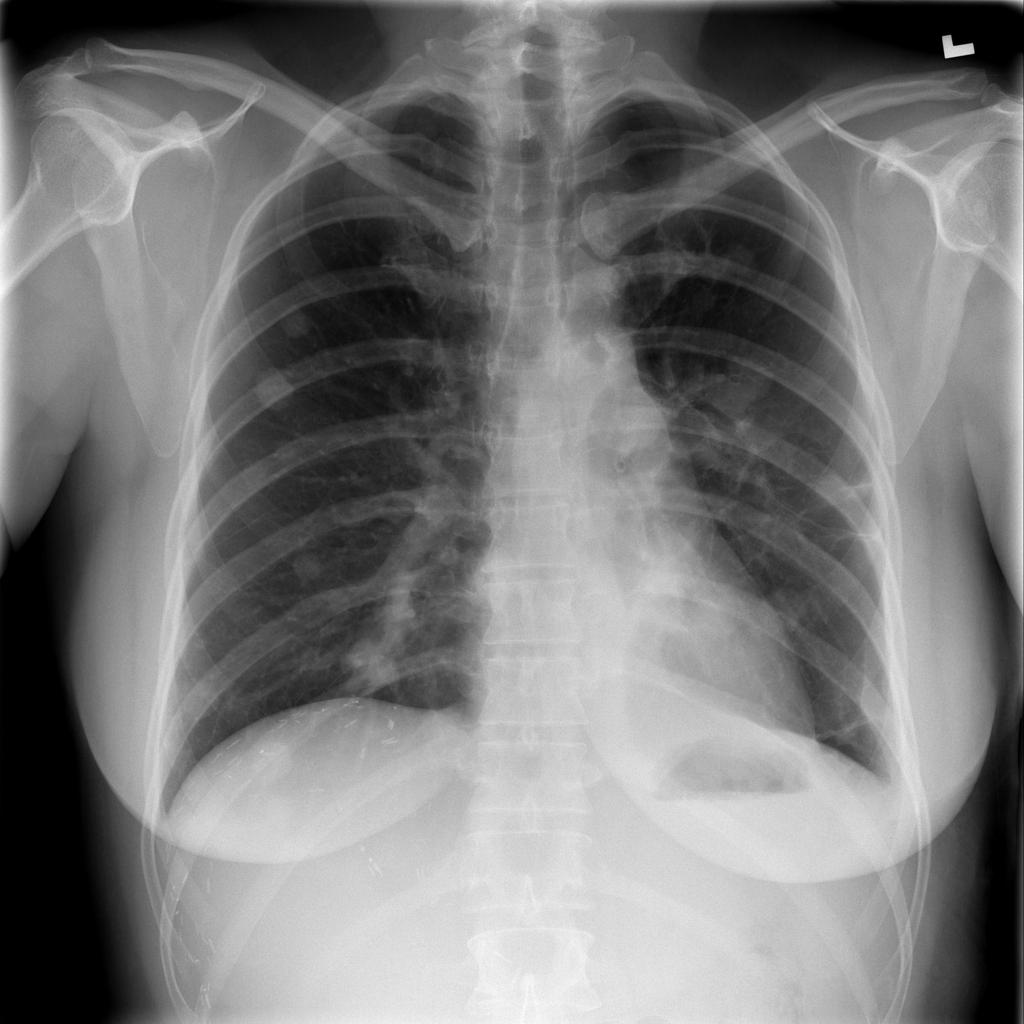nodule: (331, 629, 414, 698), (230, 722, 309, 792), (749, 574, 823, 647), (238, 353, 310, 425), (262, 282, 332, 353), (281, 541, 336, 589)
